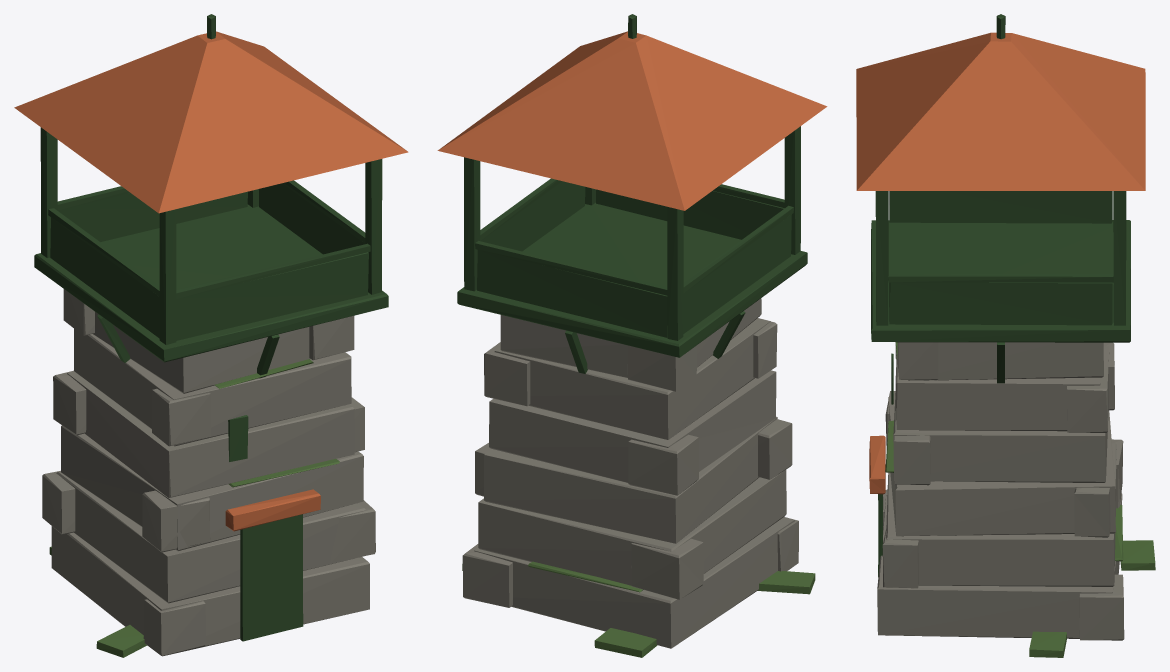
File: watchtower_lod1.obj
3 renders of one model, left to right at view 1: azimuth 30°, elevation 25°; view 2: azimuth 150°, elevation 25°; view 3: azimuth 270°, elevation 25°, orthographic.
Parts seen in each view (by area): view 1: watchtower_lod1; view 2: watchtower_lod1; view 3: watchtower_lod1.
Part boxes in pixels (x1,y1,x2,y2): watchtower_lod1: [14, 14, 408, 657]; watchtower_lod1: [437, 14, 827, 657]; watchtower_lod1: [856, 14, 1155, 657].
Bounding box in the file's own units: 4.21 × 7.99 × 3.78.
